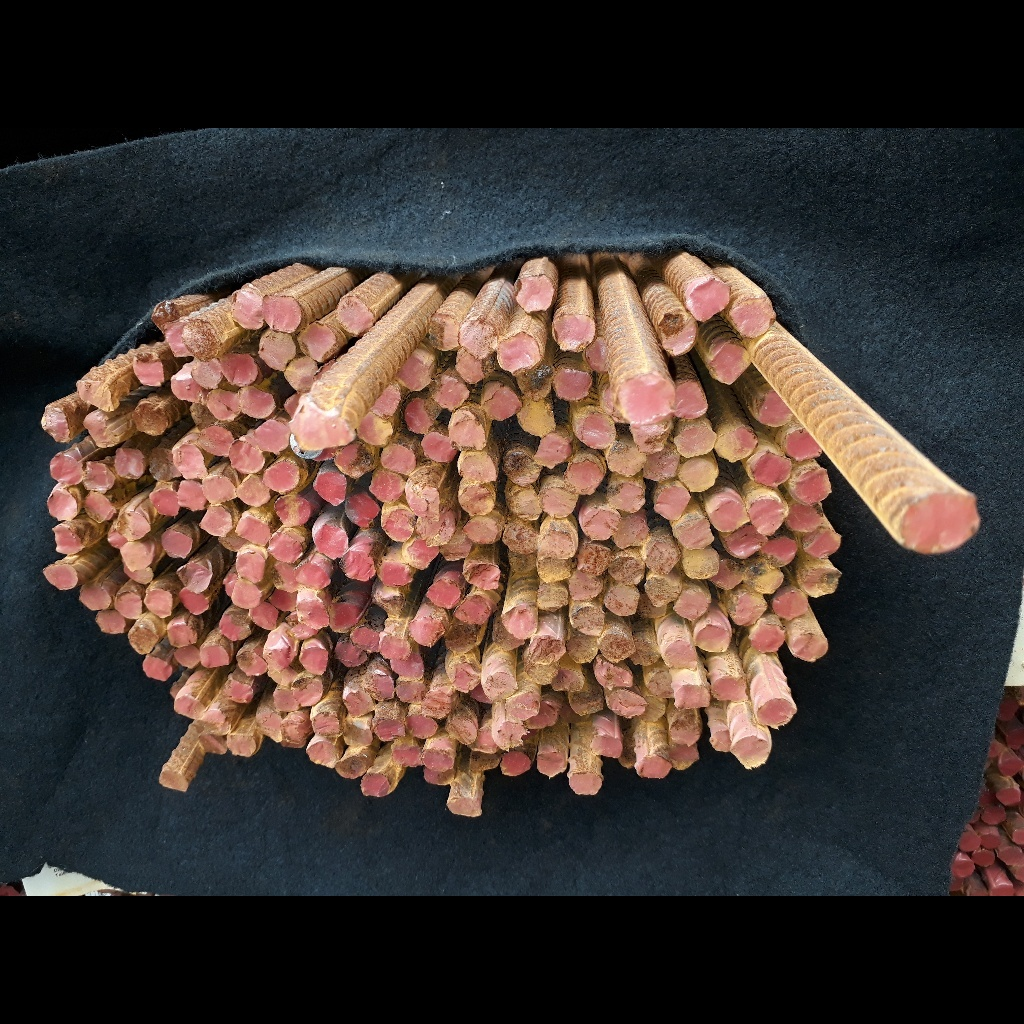dipstick: (899, 488, 979, 552), (296, 401, 350, 448), (621, 377, 672, 419), (732, 298, 775, 336), (498, 334, 539, 371), (691, 279, 728, 318), (712, 345, 749, 383), (554, 314, 594, 349), (675, 516, 715, 551), (184, 322, 220, 360), (482, 384, 521, 419), (716, 427, 757, 460), (337, 295, 373, 332), (517, 276, 552, 313), (300, 323, 334, 361), (794, 468, 830, 503), (264, 297, 301, 331), (578, 415, 615, 449), (753, 454, 791, 487), (630, 419, 670, 450), (676, 426, 716, 457), (259, 333, 295, 367), (461, 323, 497, 357), (417, 512, 455, 544), (663, 315, 695, 353), (521, 401, 555, 436), (505, 486, 540, 520), (682, 459, 717, 493), (84, 415, 119, 448), (644, 540, 679, 573), (757, 394, 792, 427), (674, 383, 707, 418), (750, 500, 786, 532), (132, 403, 166, 436), (567, 461, 601, 494), (711, 498, 745, 531), (733, 736, 768, 768), (655, 488, 690, 520), (724, 530, 764, 558), (503, 521, 539, 552), (541, 488, 578, 518), (581, 511, 619, 540), (607, 447, 645, 476), (750, 622, 784, 654), (275, 495, 310, 526), (382, 508, 413, 543), (646, 447, 677, 482), (429, 314, 459, 350), (336, 446, 372, 476), (593, 661, 633, 688), (222, 355, 256, 386), (265, 461, 299, 492), (75, 382, 114, 409), (609, 483, 644, 513), (41, 407, 70, 443), (458, 486, 494, 515), (759, 700, 797, 727), (399, 357, 430, 390), (198, 426, 231, 457), (179, 560, 212, 591), (536, 436, 569, 467), (519, 367, 553, 397), (265, 636, 294, 671), (695, 624, 730, 653), (609, 555, 644, 584), (805, 567, 840, 596), (684, 550, 719, 579), (613, 519, 648, 548), (409, 617, 445, 645), (747, 565, 783, 593), (788, 503, 824, 531), (257, 420, 288, 452), (174, 446, 206, 477), (231, 440, 263, 471), (46, 489, 77, 521), (236, 474, 269, 504), (436, 378, 469, 408), (317, 524, 347, 557), (505, 605, 535, 638), (664, 640, 697, 670), (505, 454, 538, 484), (528, 638, 566, 664), (371, 472, 405, 501), (460, 454, 494, 483), (205, 391, 240, 419), (239, 388, 274, 416), (773, 592, 809, 619), (785, 431, 822, 457), (133, 353, 163, 385), (287, 359, 317, 391), (316, 474, 346, 506), (344, 550, 376, 580), (446, 624, 478, 654), (357, 416, 390, 445), (237, 515, 270, 544), (555, 371, 588, 400), (451, 421, 485, 449), (371, 714, 405, 742), (569, 573, 603, 601), (731, 596, 765, 624), (711, 676, 749, 701), (538, 531, 573, 558), (805, 531, 840, 558), (50, 454, 81, 484), (605, 586, 636, 616), (405, 400, 433, 433), (406, 540, 440, 567), (149, 449, 179, 479), (635, 754, 671, 779), (792, 635, 828, 660), (567, 635, 597, 665), (204, 476, 236, 504), (347, 496, 379, 524), (375, 586, 407, 614), (428, 579, 460, 607), (457, 597, 489, 625), (648, 578, 680, 606), (270, 533, 303, 560), (43, 564, 78, 589), (568, 691, 603, 716), (608, 691, 643, 716), (53, 526, 83, 555), (409, 488, 438, 518), (237, 551, 265, 582), (572, 606, 603, 634), (382, 445, 414, 472), (600, 634, 633, 660), (83, 463, 113, 491), (537, 584, 567, 612), (84, 494, 115, 521), (578, 546, 609, 573), (118, 513, 150, 539), (423, 436, 455, 462), (298, 562, 330, 588), (676, 685, 709, 710), (115, 449, 143, 478), (203, 506, 232, 534), (466, 516, 495, 544), (498, 721, 527, 749), (178, 481, 205, 511), (162, 530, 192, 557), (282, 717, 309, 747), (121, 543, 152, 569), (378, 564, 413, 587), (79, 585, 111, 610), (506, 694, 538, 719), (329, 603, 357, 631), (170, 375, 199, 402), (128, 624, 155, 653), (718, 561, 747, 588), (380, 634, 411, 659), (500, 751, 531, 776), (395, 679, 427, 703), (537, 558, 570, 581), (166, 321, 187, 357), (192, 360, 220, 387), (529, 703, 557, 730), (768, 538, 796, 565), (343, 720, 372, 746), (647, 669, 673, 698), (298, 602, 328, 627), (173, 695, 203, 720), (446, 719, 476, 744), (677, 593, 707, 618), (360, 772, 391, 796), (406, 714, 437, 738), (591, 734, 622, 758), (467, 565, 499, 588), (569, 771, 601, 794), (301, 646, 328, 673), (146, 589, 172, 617), (250, 604, 278, 630), (365, 672, 393, 698), (450, 664, 478, 690), (537, 750, 565, 776), (272, 563, 297, 592), (337, 643, 366, 668), (256, 712, 281, 741), (494, 624, 523, 649), (306, 742, 336, 766), (670, 721, 700, 745), (587, 338, 608, 372), (219, 616, 250, 639), (150, 303, 177, 329), (294, 679, 321, 705), (346, 691, 373, 717), (456, 353, 481, 381), (116, 591, 141, 619), (447, 797, 482, 817), (632, 641, 660, 666), (336, 754, 365, 778), (422, 694, 451, 718), (142, 657, 172, 680), (423, 748, 454, 770), (152, 489, 178, 515), (232, 583, 259, 608), (487, 673, 514, 698), (374, 388, 398, 416), (97, 611, 125, 635), (352, 628, 380, 652), (313, 712, 341, 736), (638, 594, 665, 618), (180, 591, 208, 614), (392, 659, 422, 680), (672, 746, 698, 770), (227, 734, 255, 756), (167, 623, 196, 644), (200, 646, 229, 667), (441, 538, 470, 559), (158, 771, 188, 791), (199, 732, 226, 754), (553, 671, 584, 690), (393, 745, 421, 766), (528, 665, 557, 685), (273, 689, 298, 712), (469, 753, 499, 772), (225, 682, 252, 703), (643, 696, 664, 723), (477, 726, 496, 755), (204, 709, 229, 731), (239, 654, 265, 675), (190, 403, 212, 426), (509, 553, 537, 571), (271, 591, 296, 611), (123, 567, 154, 583), (175, 647, 199, 667), (107, 525, 126, 549), (711, 730, 730, 752), (219, 535, 245, 551), (424, 772, 455, 784), (222, 572, 236, 598)
